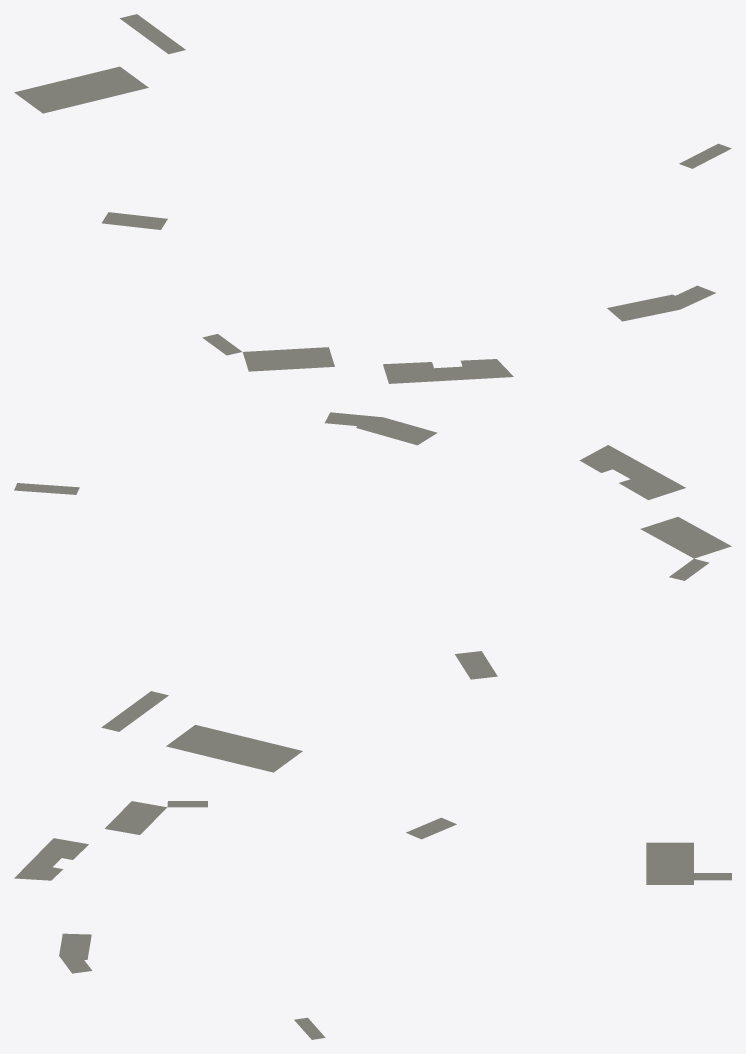
The model's file is kd_stage_135fe0_5_47_bounded.glb.
The picture shows the model from 3 angles, top to bottom: view 1: azimuth 30°, elevation 25°; view 2: azimuth 150°, elevation 25°; view 3: azimuth 270°, elevation 25°; orthographic projection. The views are drawn at different scales.
Parts seen in each view (by area): view 1: kd_stage_135fe0_5_47_bounded; view 2: kd_stage_135fe0_5_47_bounded; view 3: kd_stage_135fe0_5_47_bounded.
Boxes of the visible parts, bbox=[...] form: kd_stage_135fe0_5_47_bounded: bbox=[14, 14, 731, 383]; kd_stage_135fe0_5_47_bounded: bbox=[14, 412, 731, 772]; kd_stage_135fe0_5_47_bounded: bbox=[14, 801, 731, 1039].
Bounding box in the file's own units: 15.73 × 0.75 × 20.11.
1 material, 1 textured.
